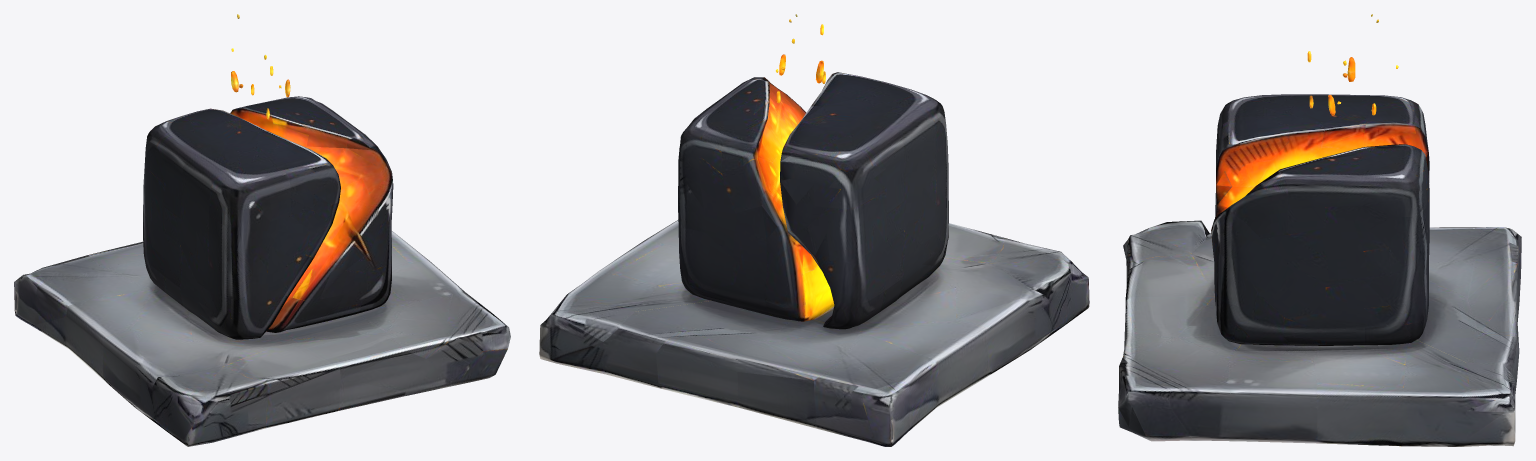
Rendered from ember_core.glb.
3 renders of one model, left to right at view 1: azimuth 30°, elevation 25°; view 2: azimuth 150°, elevation 25°; view 3: azimuth 270°, elevation 25°, orthographic. The views are drawn at different scales.
Size of the model in its own units: 1 by 0.9082 by 0.9668.
1 material, 1 textured.
